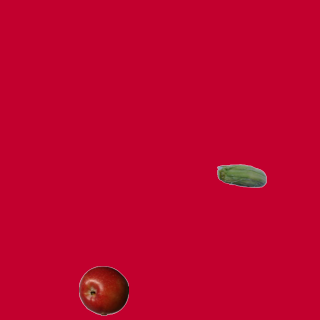Apple Braeburn: (78, 265, 128, 315)
Corn Husk: (216, 152, 266, 202)
